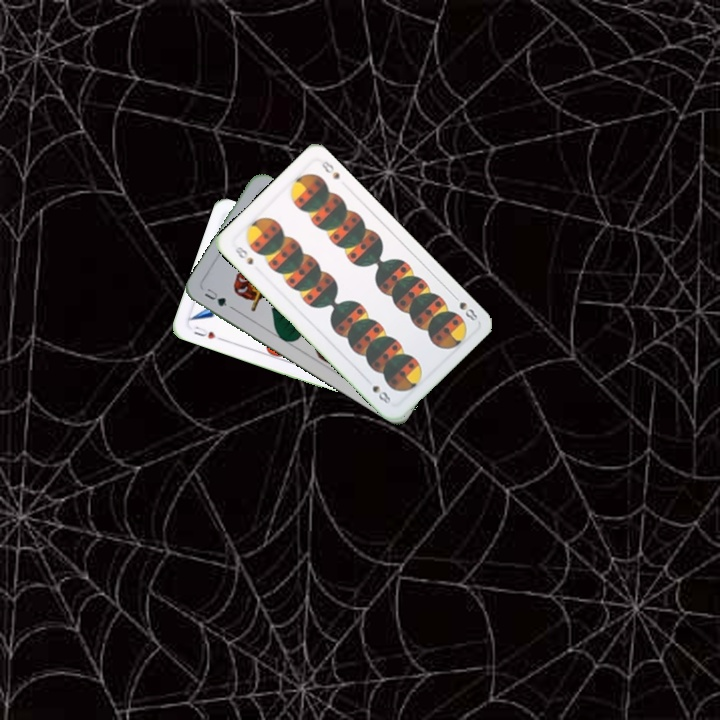GU: (200, 284, 230, 309)
HU: (190, 322, 226, 343)
S8: (448, 290, 480, 324), (230, 242, 256, 268)
